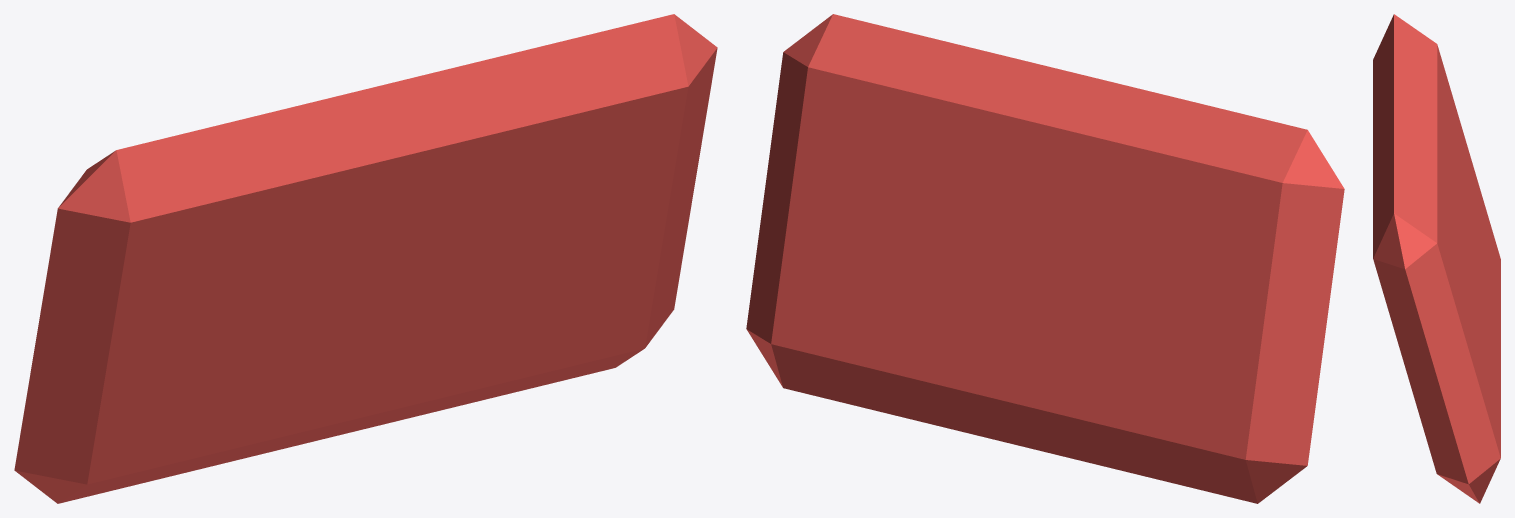
Rendered from pillowLong.fbx.
3 views of the same model, side by side, from view 1: azimuth 30°, elevation 25°; view 2: azimuth 150°, elevation 25°; view 3: azimuth 270°, elevation 25° (orthographic). The views are drawn at different scales.
Visible parts, largest first — view 1: pillowLong; view 2: pillowLong; view 3: pillowLong.
Part boxes in pixels (box(x1,y1,x2,y2)): pillowLong: box(14, 14, 717, 503); pillowLong: box(746, 14, 1344, 503); pillowLong: box(1373, 14, 1500, 503).
Size of the model in its own units: 3.87 by 2.22 by 0.8848.
